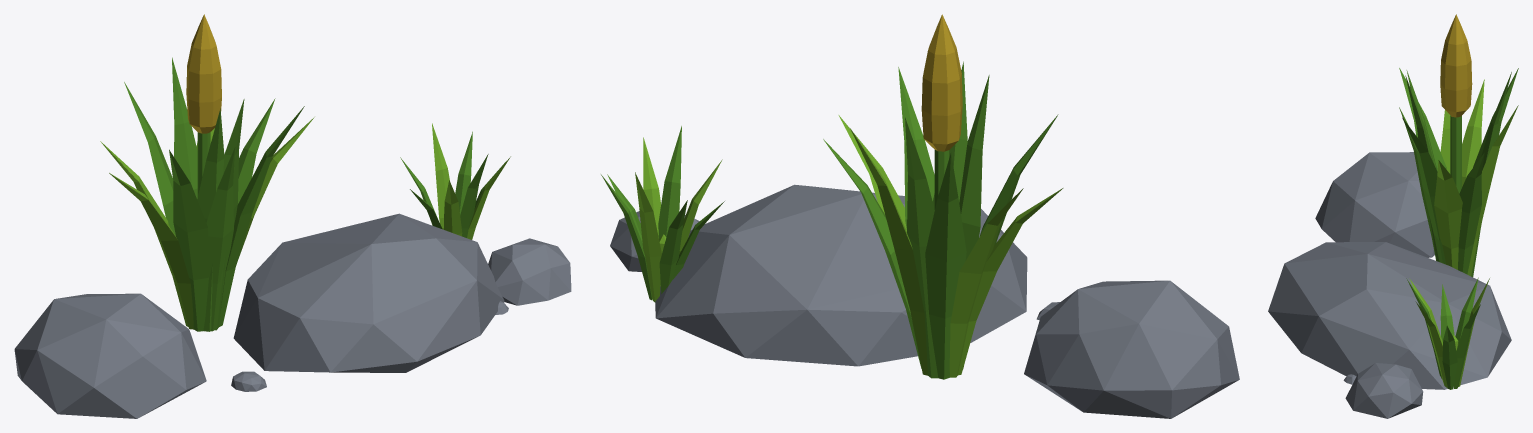
File: reeds_river plants.fbx
The picture shows the model from 3 angles, left to right: view 1: azimuth 30°, elevation 25°; view 2: azimuth 150°, elevation 25°; view 3: azimuth 270°, elevation 25°; orthographic projection. The views are drawn at different scales.
Parts seen in each view (by area): view 1: Reeds_River_Plants; view 2: Reeds_River_Plants; view 3: Reeds_River_Plants.
Part boxes in pixels (x1,y1,x2,y2): Reeds_River_Plants: (14, 14, 571, 418); Reeds_River_Plants: (601, 14, 1239, 418); Reeds_River_Plants: (1268, 14, 1518, 418).
Size of the model in its own units: 222 by 122 by 104.
